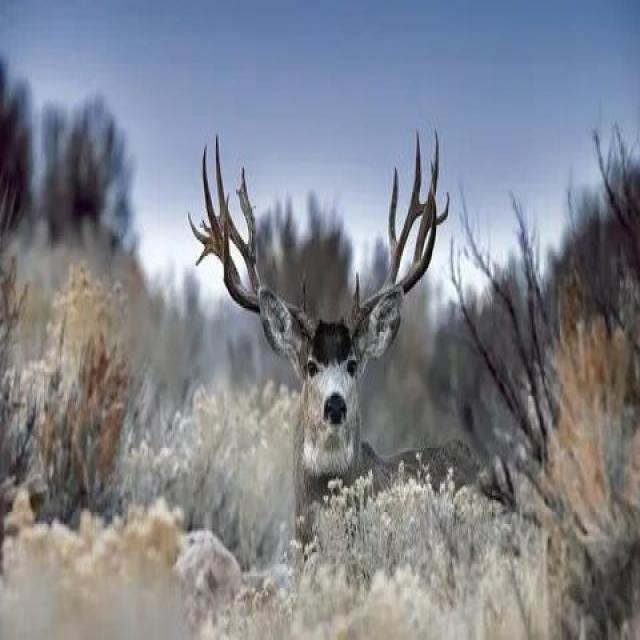deer: (166, 124, 548, 576)
